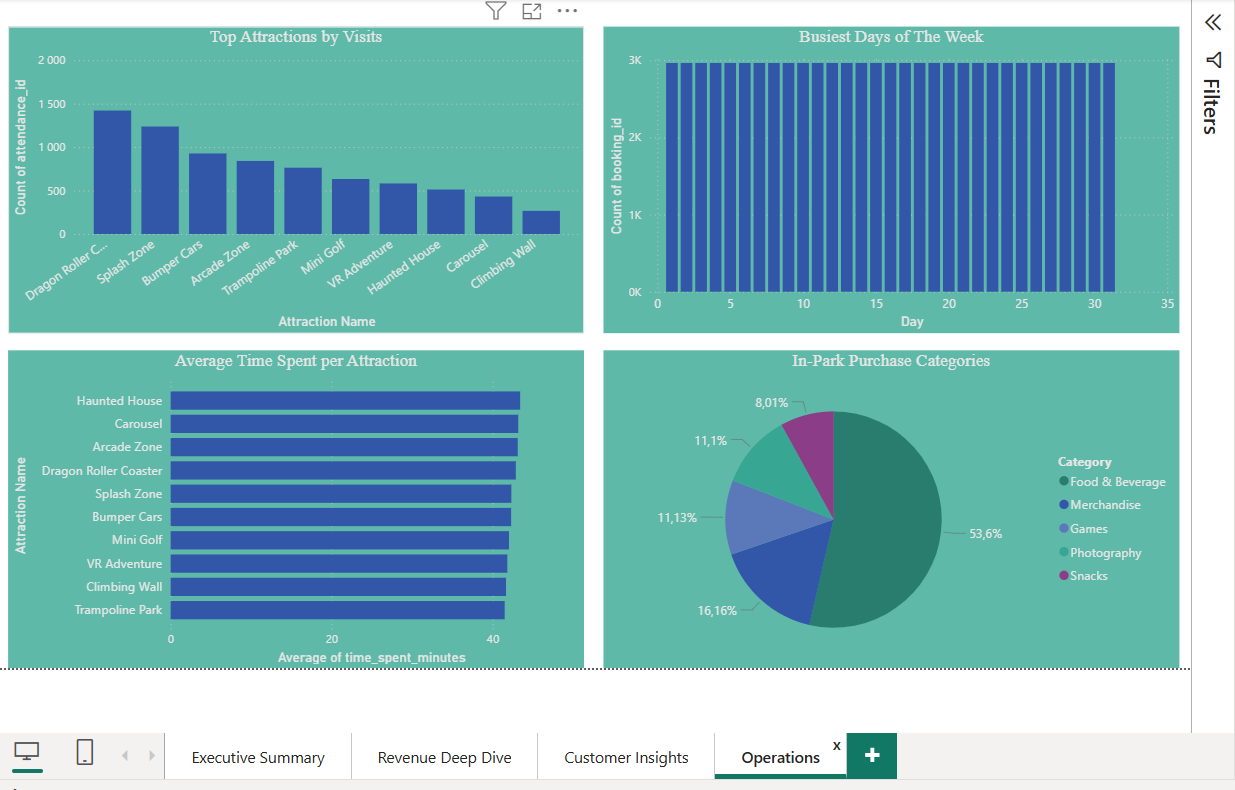

This screenshot's page, from the dashboard's own definition file:
{"tool":"powerbi","page":{"name":"Operations","canvas":[1280,720],"ordinal":3},"visuals":[{"type":"clusteredColumnChart","title":"Top Attractions by Visits","fields":{"Y":["CountNonNull(attendance.attendance_id)"],"Category":["attractions.attraction_name"]},"box":[9.8,30.7,618.5,329.5],"z":0},{"type":"clusteredBarChart","title":"Average Time Spent per Attraction","fields":{"Category":["attractions.attraction_name"],"Y":["Avg(attendance.time_spent_minutes)"]},"box":[9.8,378.3,618.5,342],"z":1000},{"type":"clusteredColumnChart","title":"Busiest Days of The Week","fields":{"Category":["attendance.visit_date.Variation.Date Hierarchy.Day"],"Y":["CountNonNull(bookings.booking_id)"]},"box":[649.2,30.7,618.5,329.5],"z":2000},{"type":"pieChart","title":"In-Park Purchase Categories","fields":{"Category":["in_park_purchases.category"],"Y":["Sum(in_park_purchases.amount)"]},"box":[649.2,378.3,618.5,342],"z":3000}]}

Visuals, with their boxes on the page's 1280x720 design canvas (x1, y1, x2, y2). These are canvas units, not pixel positions in the 1235x790 screenshot, which may show the page scaled, cropped or inside an application window:
"Top Attractions by Visits" clusteredColumnChart: left=10, top=31, right=628, bottom=360
"Average Time Spent per Attraction" clusteredBarChart: left=10, top=378, right=628, bottom=720
"Busiest Days of The Week" clusteredColumnChart: left=649, top=31, right=1268, bottom=360
"In-Park Purchase Categories" pieChart: left=649, top=378, right=1268, bottom=720
